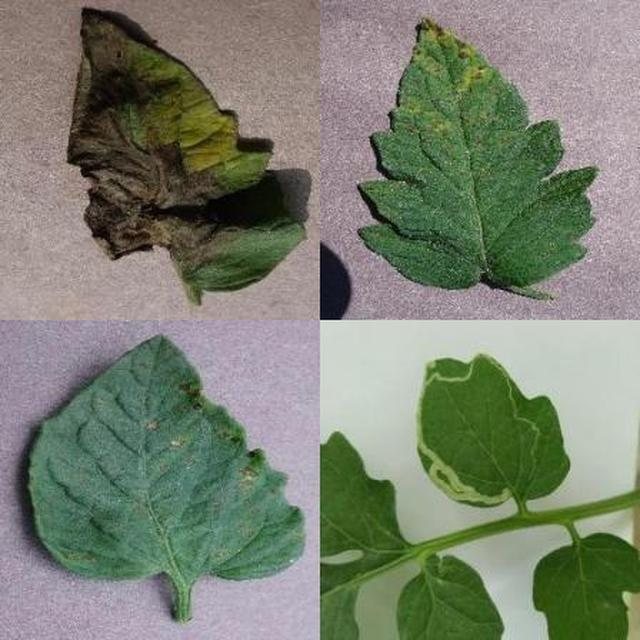Late Blight Leaf: (224, 215, 640, 640)
